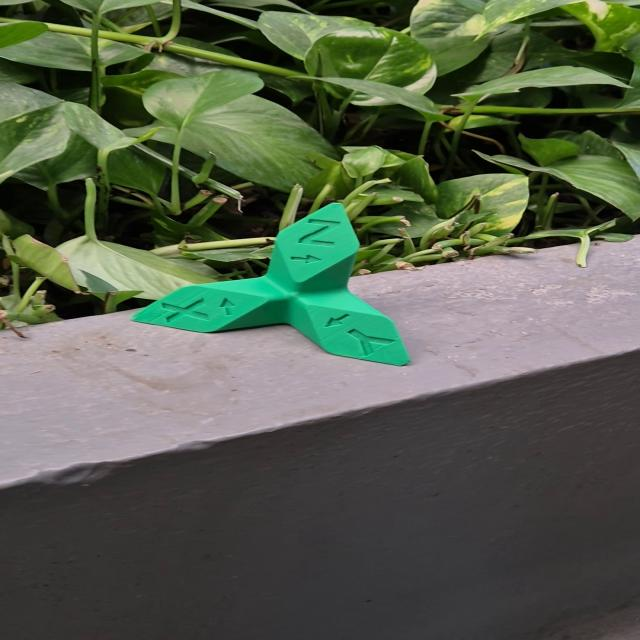objects: (126, 201, 413, 369)
